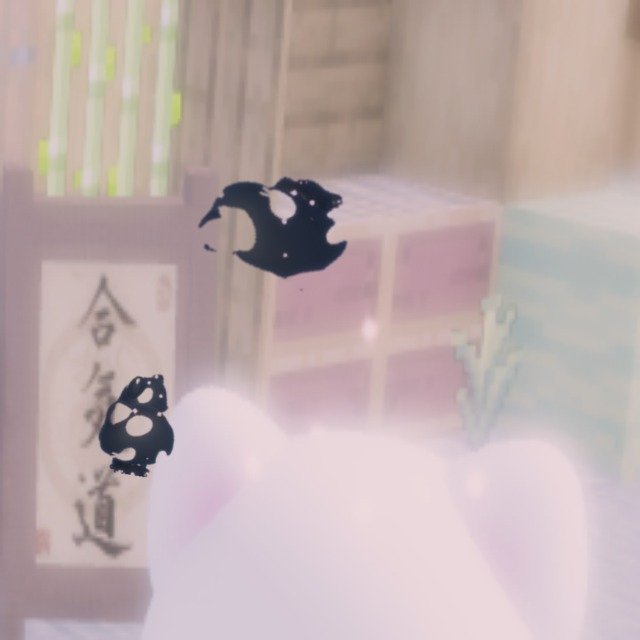urso_preto: (167, 137, 386, 316), (90, 359, 193, 482)
